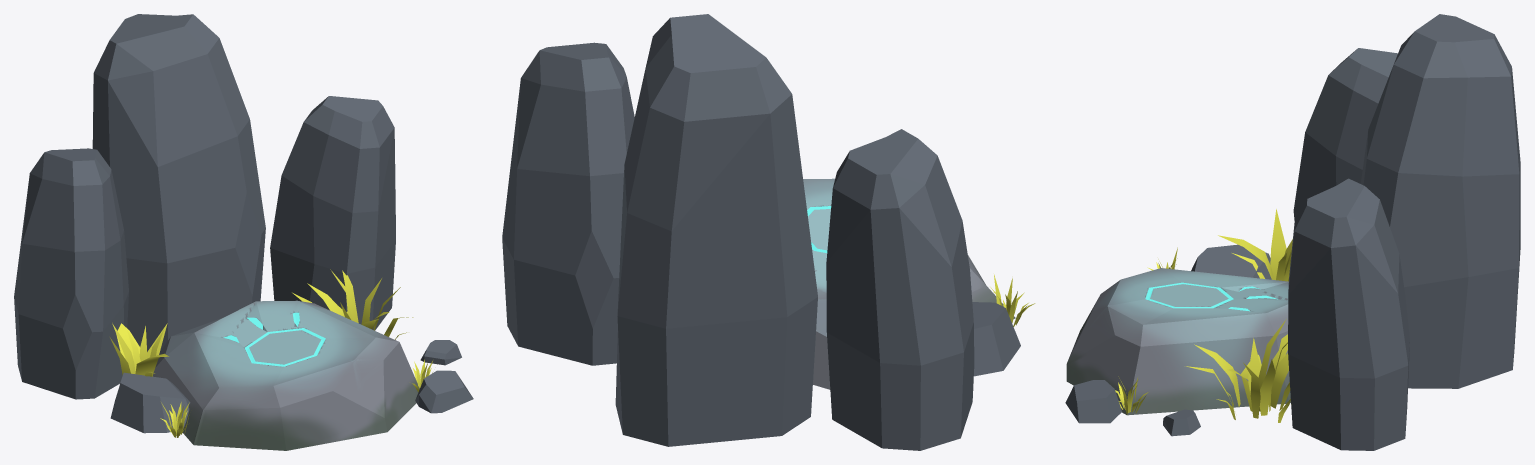
File: portal.glb
The picture shows the model from 3 angles, left to right: view 1: azimuth 30°, elevation 25°; view 2: azimuth 150°, elevation 25°; view 3: azimuth 270°, elevation 25°; orthographic projection. The views are drawn at different scales.
Visible parts, largest first — view 1: Cube.004, Cube, Cube.005, Cube.006, Cube.001, Cube.002, co 1, co 3, Cube.003, co 2.001; view 2: Cube.004, Cube.005, Cube.006, Cube, Cube.001, co 2.001; view 3: Cube.004, Cube.006, Cube, Cube.005, co 3, Cube.002, Cube.001, co 1, Cube.003, co 2.
Part boxes in pixels (left/top/right/bottom): Cube.004: left=92, top=14, right=265, bottom=351; Cube: left=153, top=300, right=419, bottom=450; Cube.005: left=14, top=148, right=128, bottom=399; Cube.006: left=270, top=96, right=395, bottom=330; Cube.001: left=110, top=372, right=190, bottom=433; Cube.002: left=415, top=370, right=473, bottom=413; co 1: left=110, top=323, right=168, bottom=376; co 3: left=292, top=269, right=413, bottom=339; Cube.003: left=420, top=340, right=461, bottom=365; co 2.001: left=160, top=402, right=189, bottom=437; Cube.004: left=615, top=14, right=817, bottom=446; Cube.005: left=826, top=129, right=974, bottom=450; Cube.006: left=502, top=42, right=634, bottom=365; Cube: left=803, top=178, right=1015, bottom=389; Cube.001: left=972, top=302, right=1020, bottom=376; co 2.001: left=990, top=274, right=1035, bottom=326; Cube.004: left=1361, top=14, right=1520, bottom=388; Cube.006: left=1288, top=178, right=1409, bottom=450; Cube: left=1066, top=268, right=1290, bottom=415; Cube.005: left=1293, top=48, right=1397, bottom=220; co 3: left=1186, top=319, right=1291, bottom=422; Cube.002: left=1065, top=380, right=1121, bottom=423; Cube.001: left=1191, top=244, right=1271, bottom=279; co 1: left=1218, top=209, right=1292, bottom=281; Cube.003: left=1163, top=409, right=1200, bottom=436; co 2: left=1115, top=376, right=1148, bottom=414.
Size of the model in its own units: 1.15 by 0.9224 by 1.15.
Materials: 4 (1 with a texture image).
